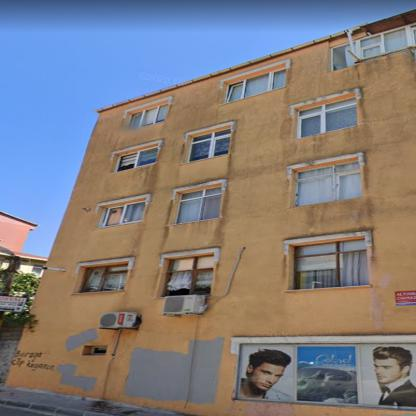window: (290, 237, 365, 287), (333, 26, 414, 72), (294, 162, 362, 207), (296, 96, 354, 138), (226, 67, 286, 102), (161, 254, 210, 296), (176, 186, 224, 224), (77, 263, 126, 293), (189, 127, 230, 160), (112, 143, 158, 171), (100, 199, 146, 225), (128, 102, 169, 130), (89, 346, 110, 354), (31, 265, 46, 275)
